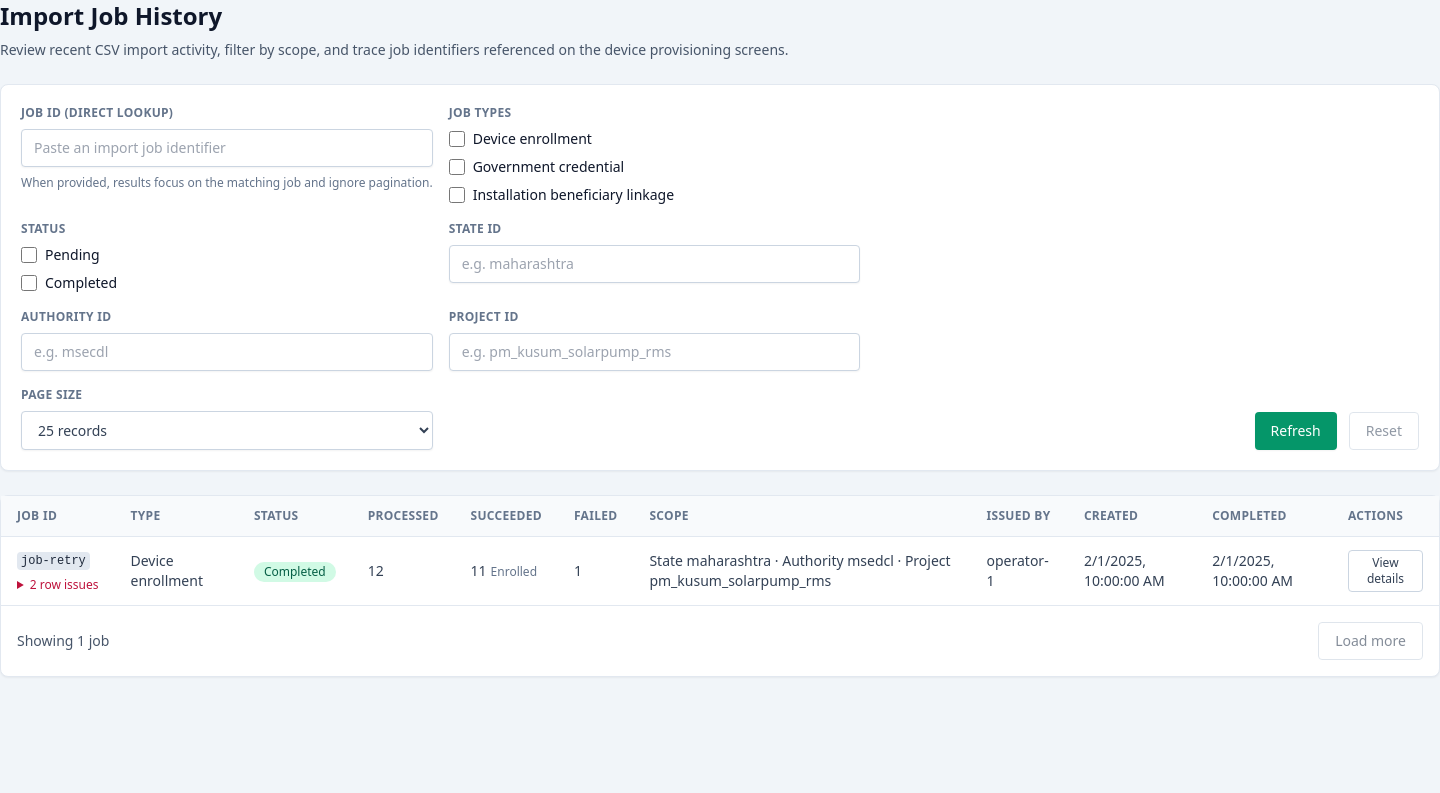
Test: DeviceImportJobsPage › validates retry input and queues a retry job for failed rows
Step 1. Click the button "View details" → x=1385, y=571, box x1=1348 y1=550 x2=1423 y2=592
(page scrolled)
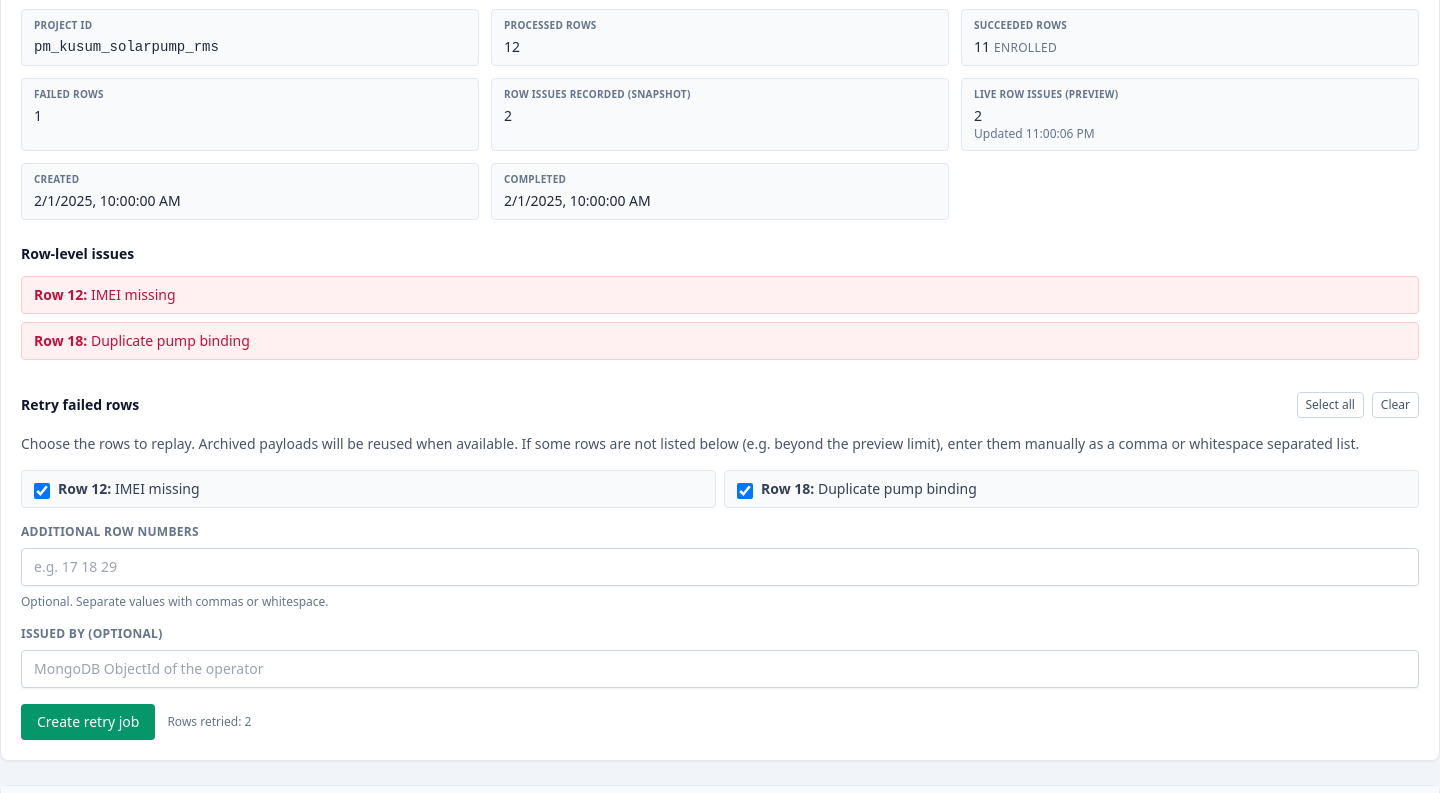
Expected: the heading "Retry failed rows" is shown, x1=21 y1=395 x2=139 y2=415
Expected: the text "Rows retried: 2" is shown, x1=167 y1=714 x2=251 y2=730
Step 2. Click the button "Clear" → x=1395, y=405, box x1=1372 y1=392 x2=1419 y2=418
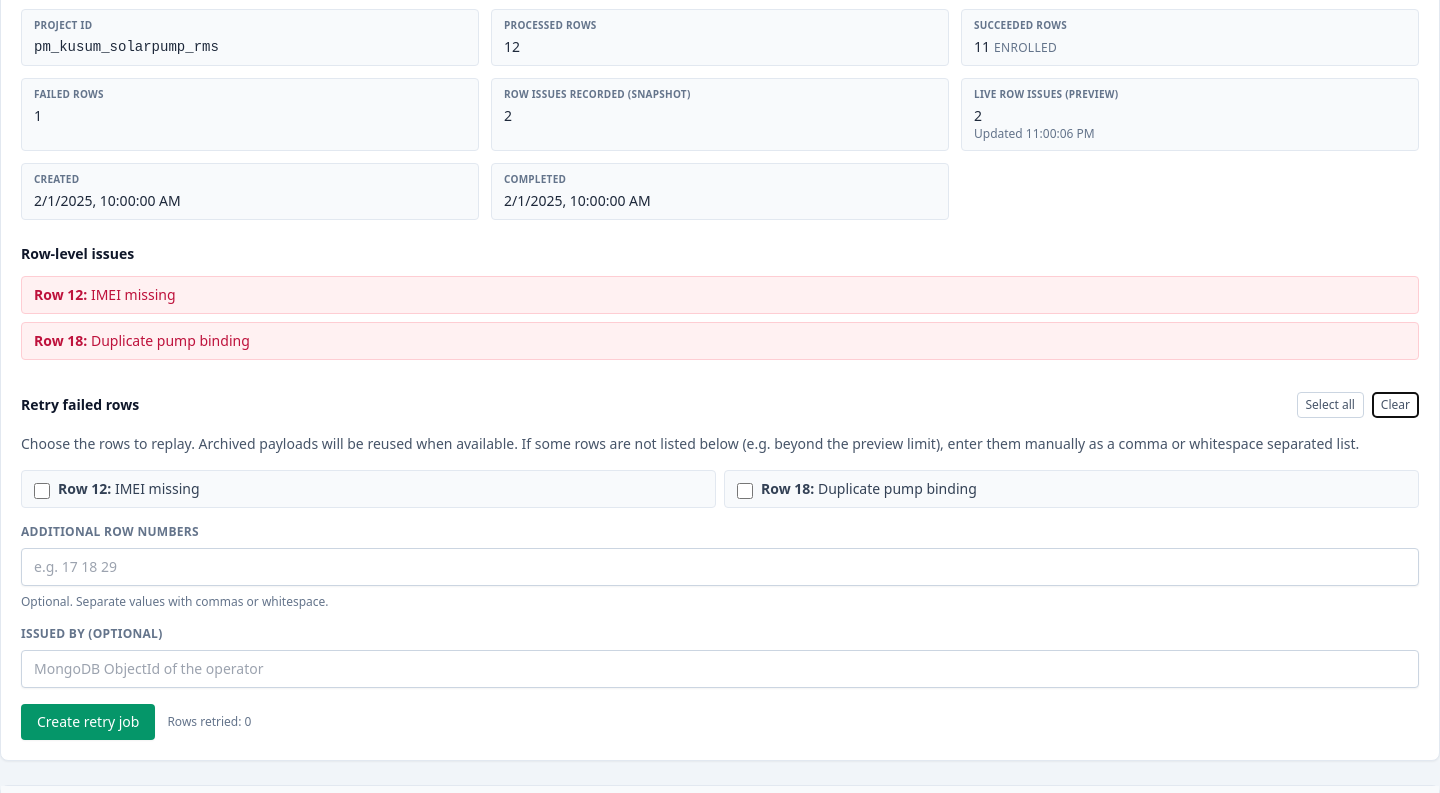
Expected: the text "Rows retried: 0" is shown, x1=167 y1=714 x2=251 y2=730
Step 3. Click the button "Create retry job" → x=88, y=722, box x1=21 y1=704 x2=155 y2=740
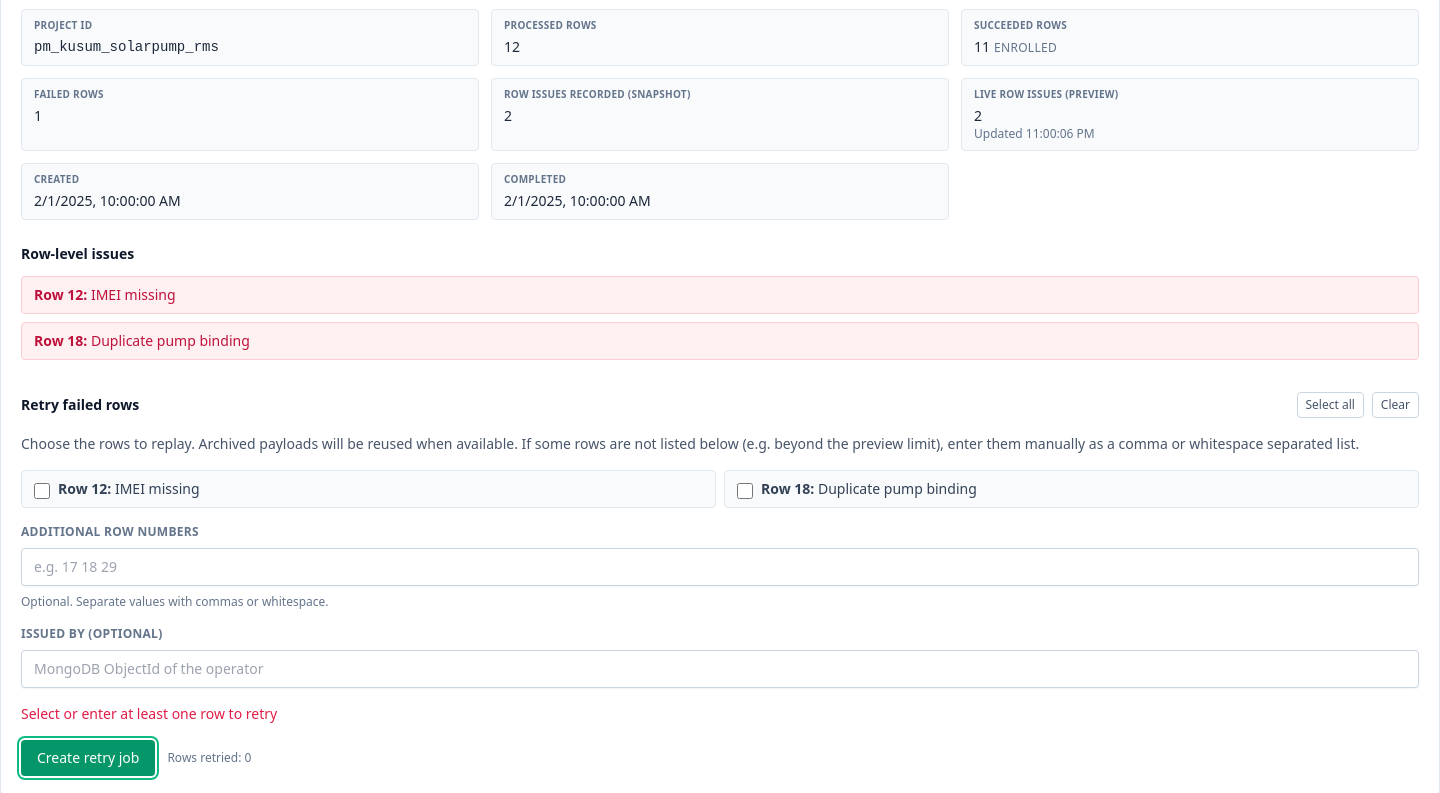
Expected: the message reads "Select or enter at least one row to retry", x1=21 y1=704 x2=277 y2=723
Step 4. Click the checkbox labelled "Row 12: IMEI missing" → x=42, y=491, box x1=34 y1=483 x2=50 y2=499
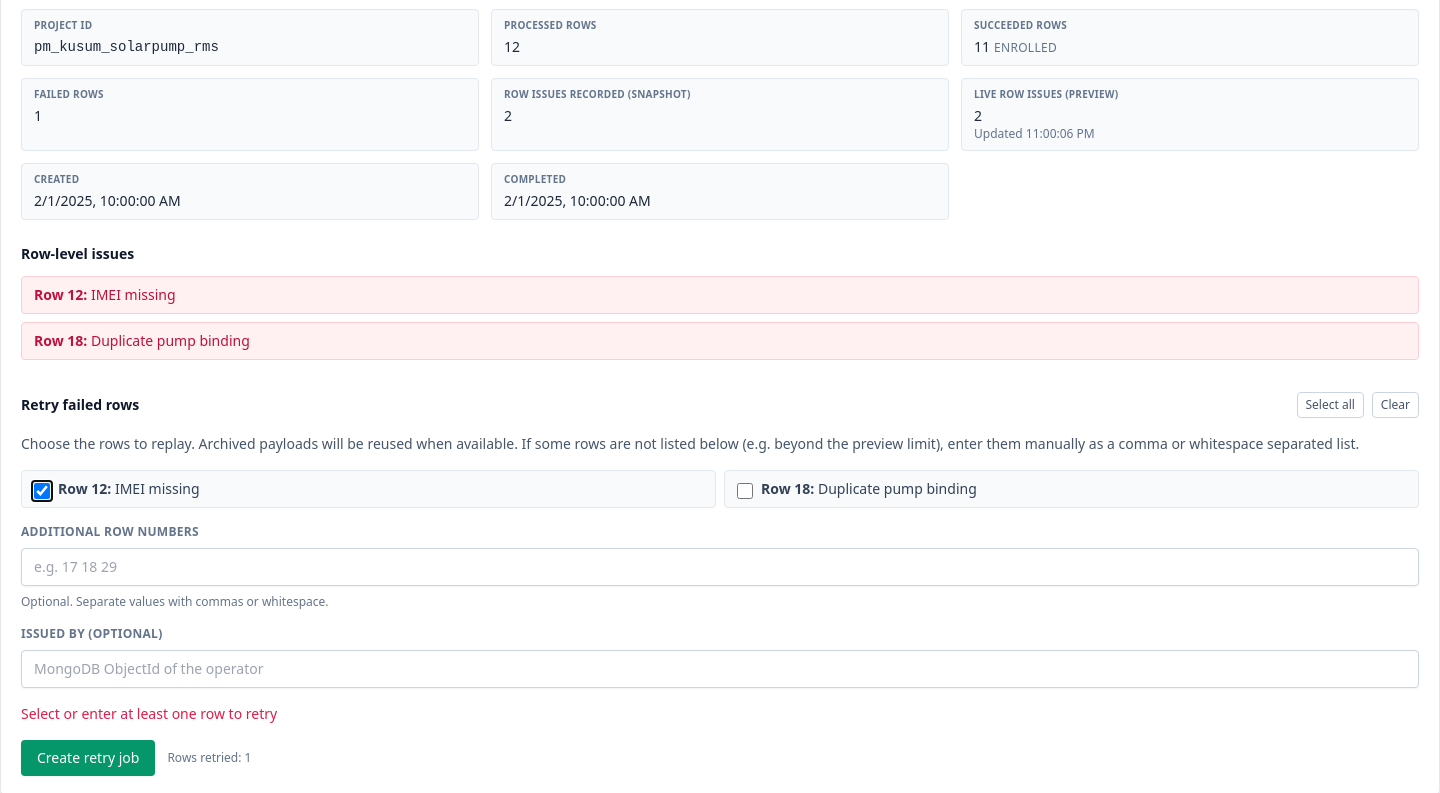
Step 5. Type "30 31" into the field labelled "Additional row numbers" → x=720, y=567, box x1=21 y1=548 x2=1419 y2=586
Step 6. Type "operator-99" into the field labelled "Issued by (optional)" → x=720, y=669, box x1=21 y1=650 x2=1419 y2=688
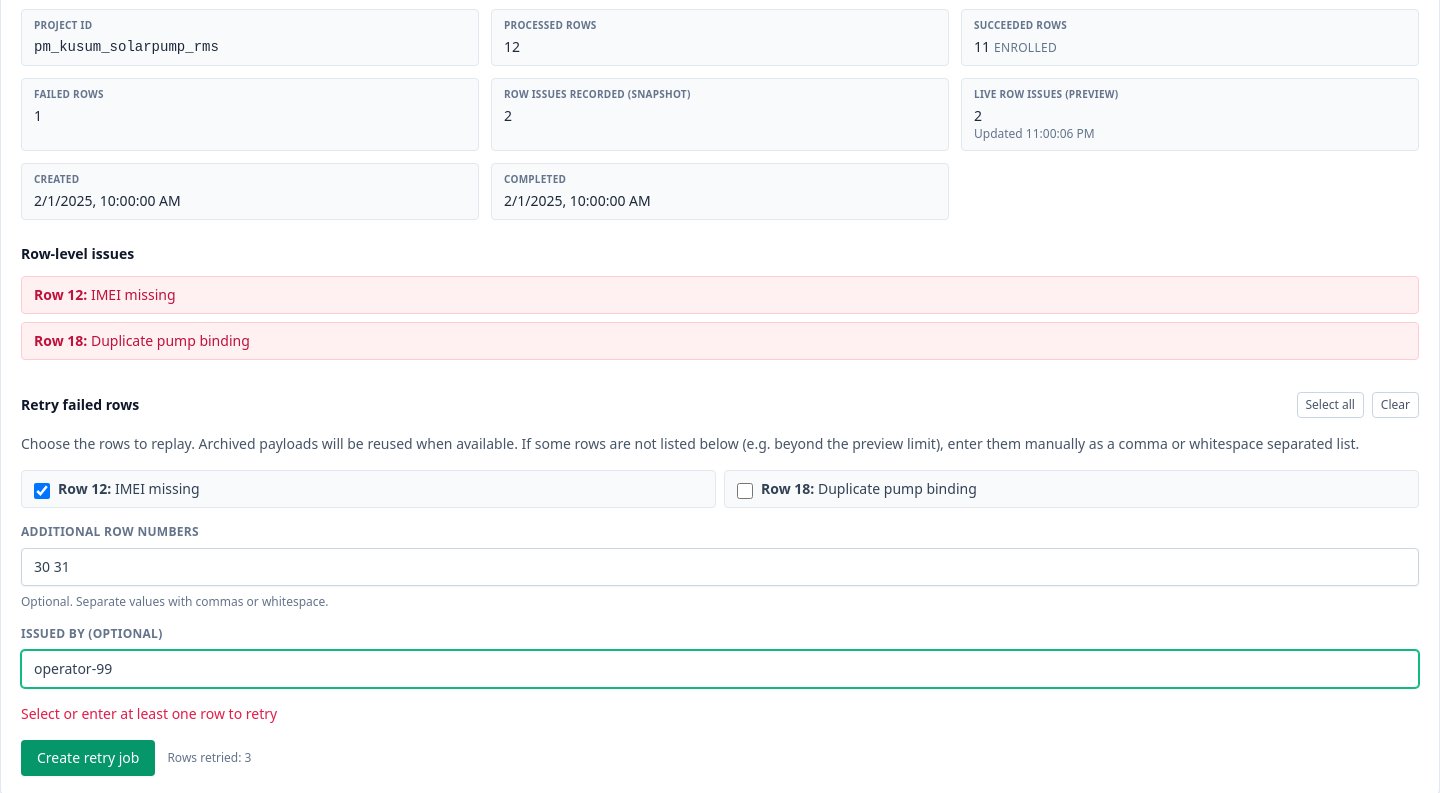
Step 7. Click the button "Create retry job" → x=88, y=758, box x1=21 y1=740 x2=155 y2=776
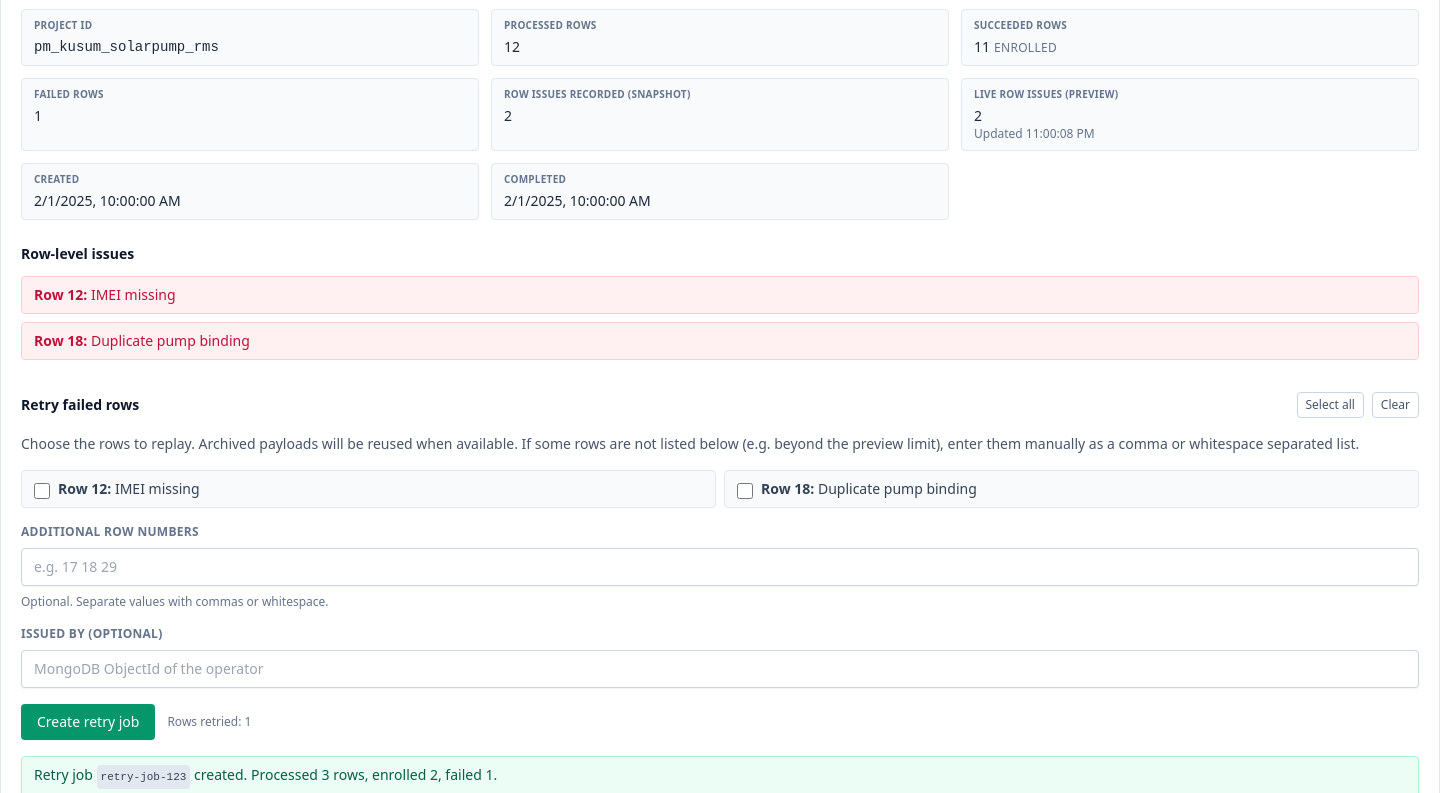
Expected: the text "Rows retried: 1" is shown, x1=167 y1=714 x2=251 y2=730
Expected: the field labelled "Additional row numbers" is empty, x1=21 y1=548 x2=1419 y2=586
Expected: the field labelled "Issued by (optional)" is empty, x1=21 y1=650 x2=1419 y2=688
